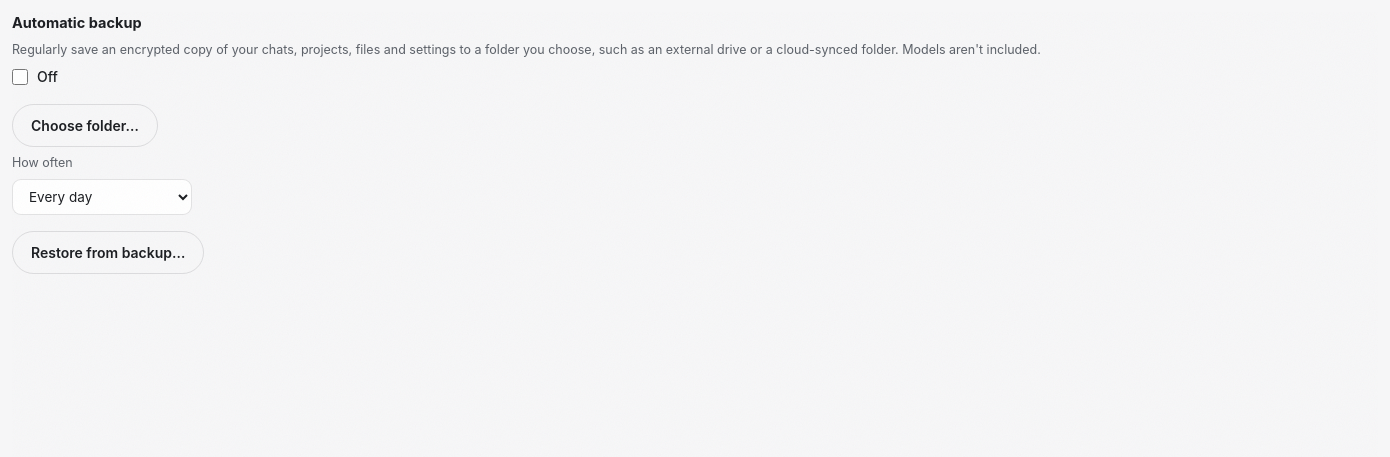
Test: AutoBackupField › restores a picked backup with the recovery code
The width and height of the screenshot is (1390, 457).
Click the button "Restore from backup…" at (108,252), box [12, 231, 204, 274]
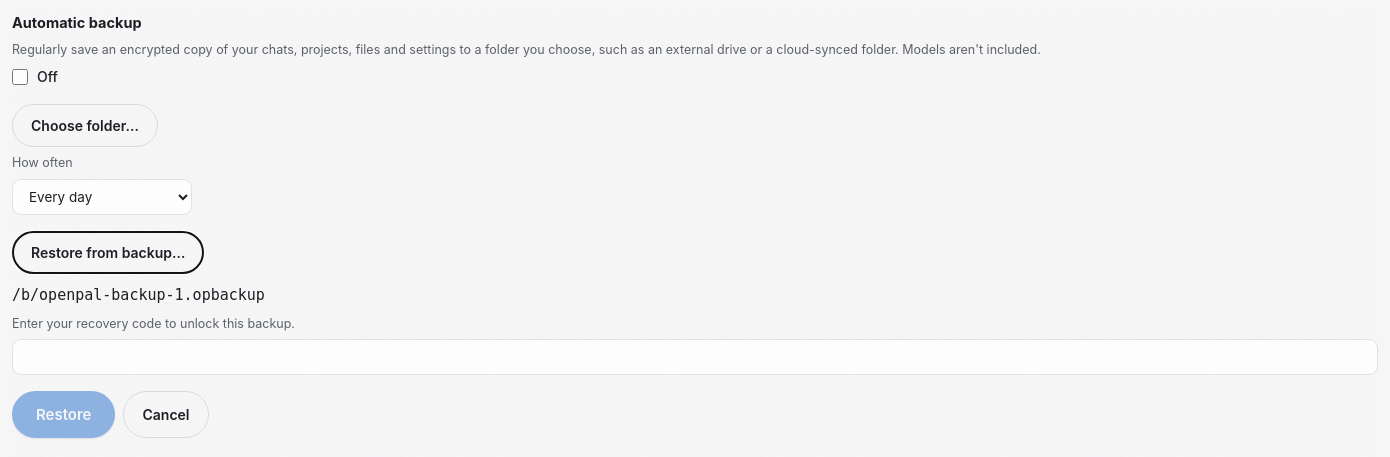
Expected: the button "Restore" is disabled, [12, 391, 116, 438]
Type "ABCDE-FGHJK" into the field labelled "Enter your recovery code to unlock this backup." at (695,357), box [12, 339, 1378, 375]
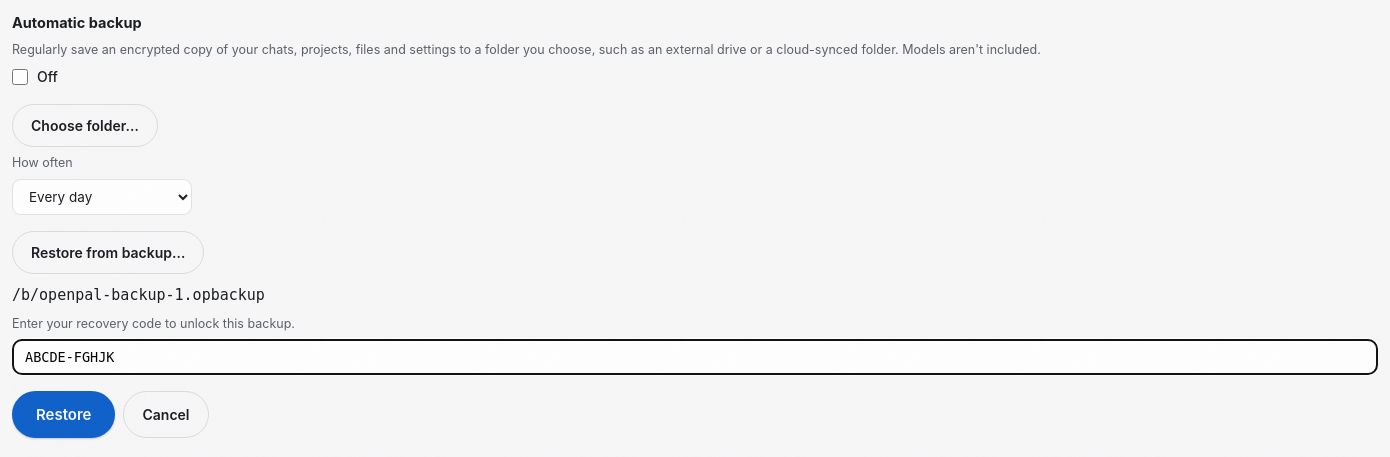
Click the button "Restore" at (64,415), box [12, 391, 116, 438]
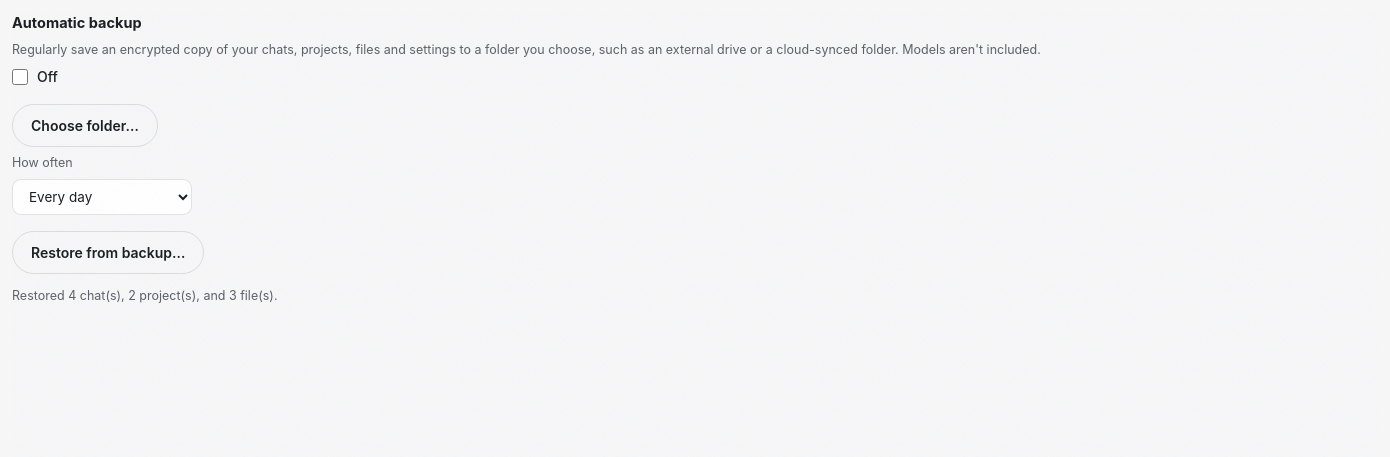
Expected: the text "Restored 4 chat(s), 2 project(s), and 3 file(s)." is shown, [12, 288, 278, 303]
Expected: the field is gone
